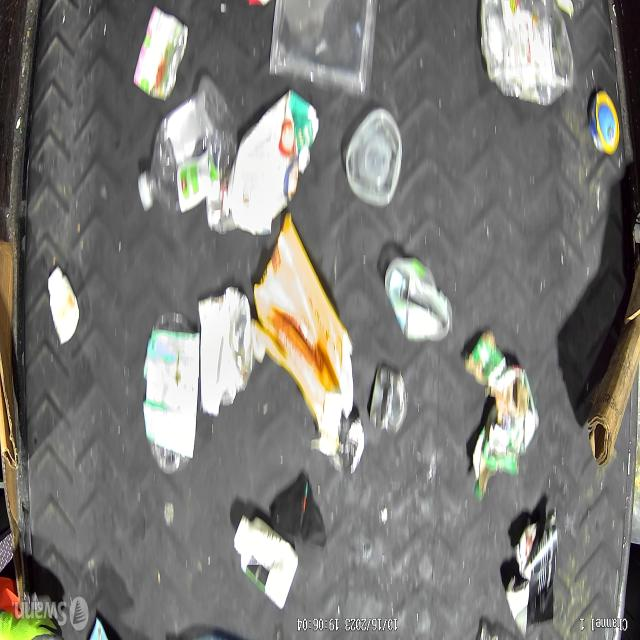can: (196, 285, 251, 417), (385, 258, 451, 344), (132, 6, 188, 102), (370, 369, 407, 435)
non_white_jug: (252, 213, 354, 457)
plastic_bottle: (137, 76, 237, 216)
